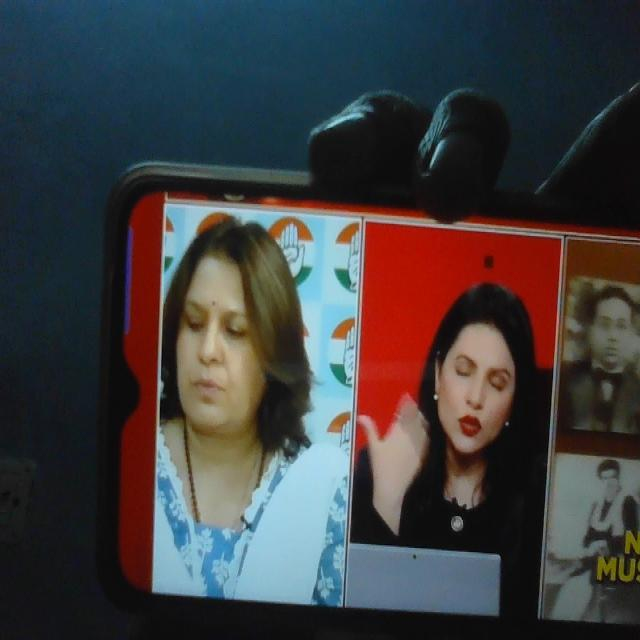fake: (169, 229, 280, 440), (421, 267, 532, 477)
